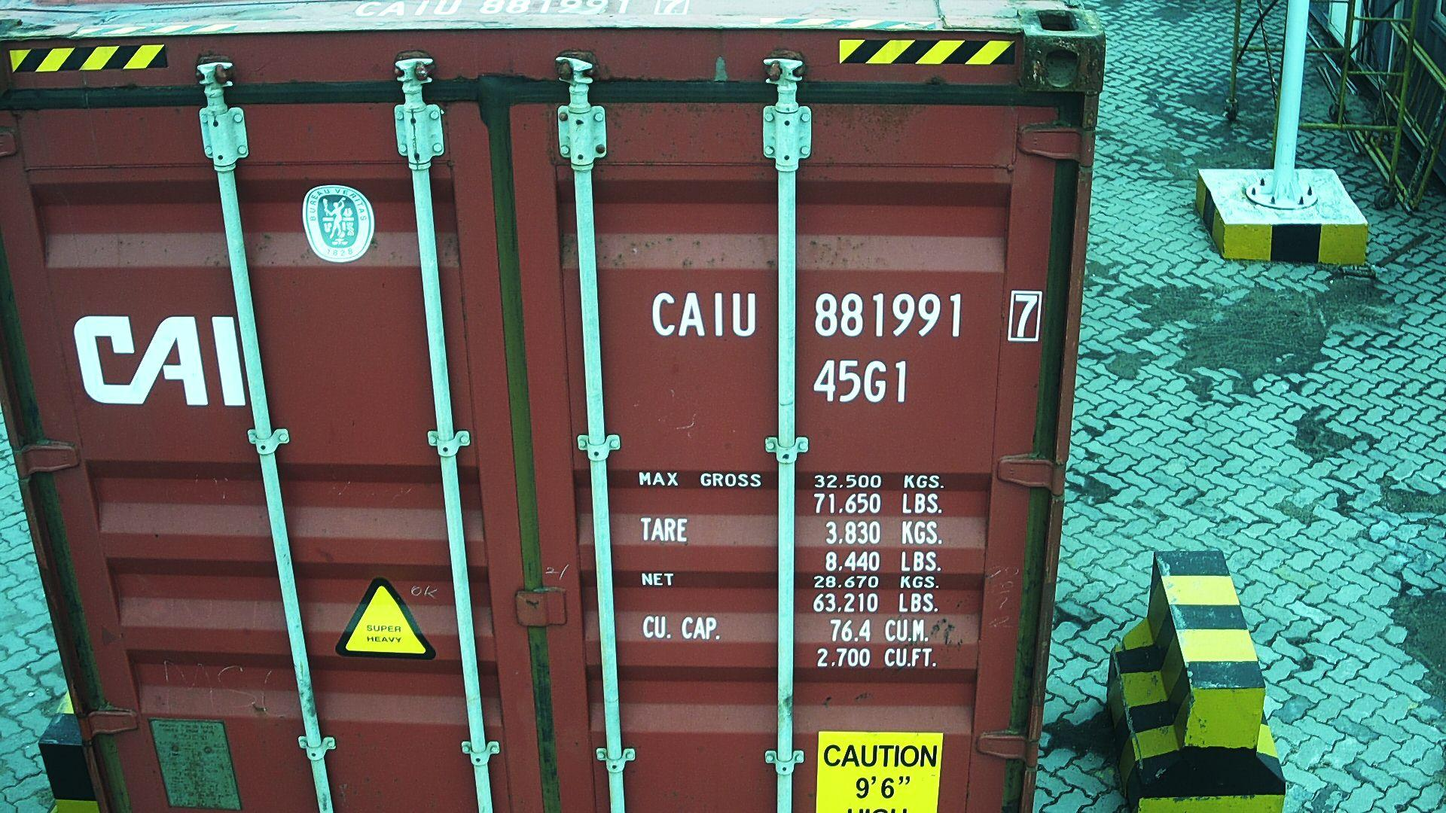container-numbers: (646, 287, 1050, 346), (339, 0, 697, 17), (809, 355, 914, 406)
